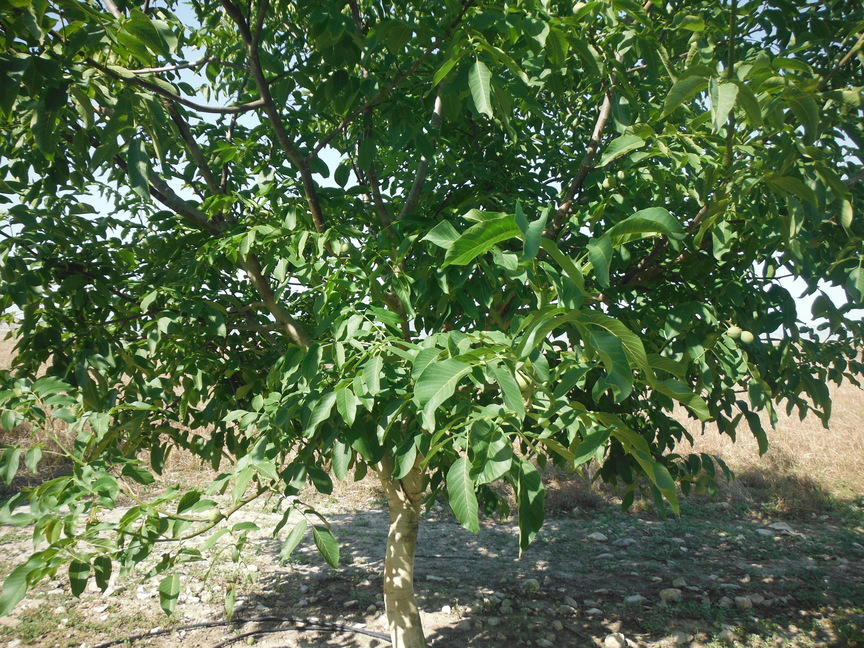walnut: (514, 373, 536, 393), (615, 165, 635, 185), (737, 328, 757, 348), (723, 322, 743, 342), (692, 479, 710, 501), (205, 506, 225, 525), (240, 211, 260, 229), (336, 240, 356, 257), (601, 174, 619, 192), (491, 272, 506, 293), (349, 247, 365, 264), (116, 409, 131, 424), (257, 207, 273, 220)
